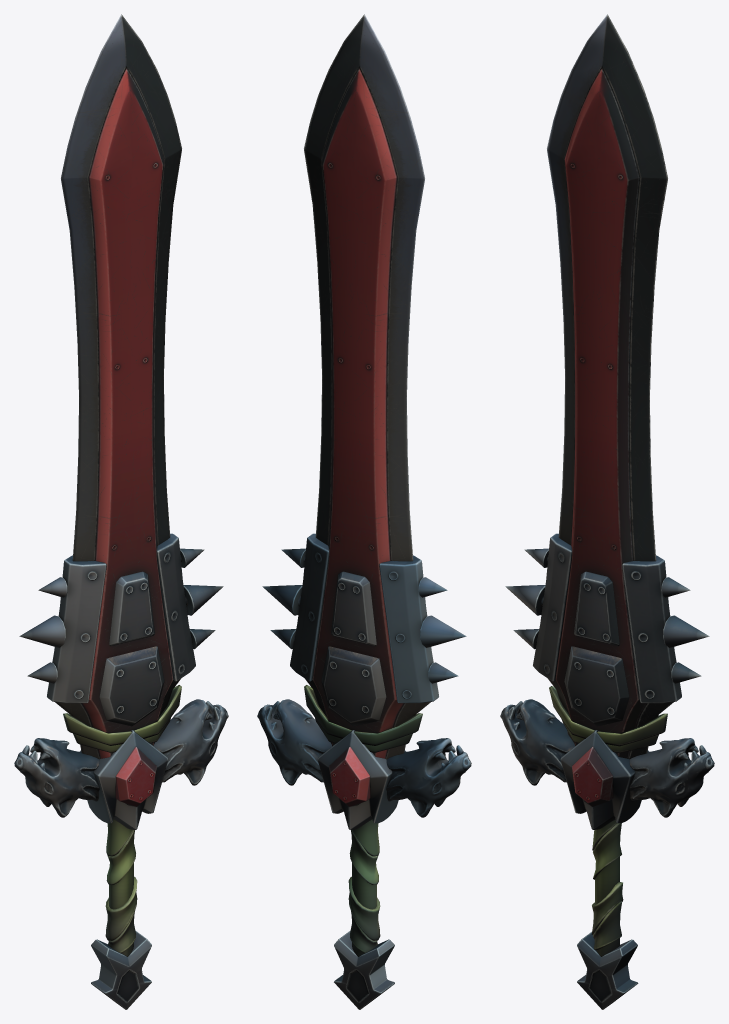
Rendered from sm_sword_215.gltf.
The picture shows the model from 3 angles, left to right: view 1: azimuth 30°, elevation 25°; view 2: azimuth 150°, elevation 25°; view 3: azimuth 330°, elevation 25°; orthographic projection.
Parts seen in each view (by area): view 1: SM_Sword_215; view 2: SM_Sword_215; view 3: SM_Sword_215.
Boxes of the visible parts, bbox=[...] form: SM_Sword_215: bbox=[14, 14, 228, 1009]; SM_Sword_215: bbox=[257, 14, 471, 1009]; SM_Sword_215: bbox=[500, 14, 714, 1009].
Bounding box in the file's own units: 0.3362 × 1.51 × 0.1067.
1 material, 1 textured.
